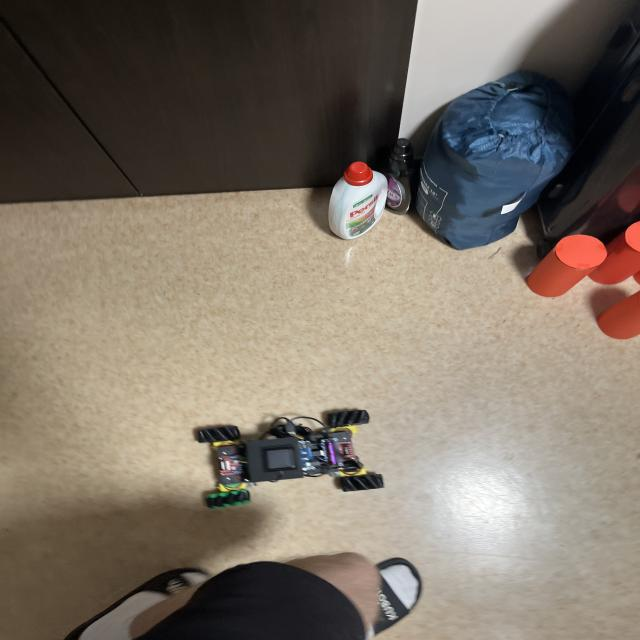robot: (194, 409, 384, 507)
